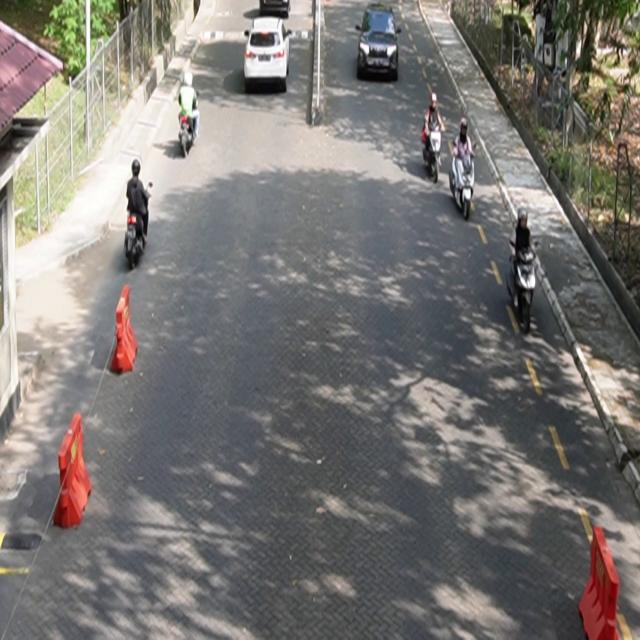car: (244, 16, 293, 93), (356, 4, 402, 82)
